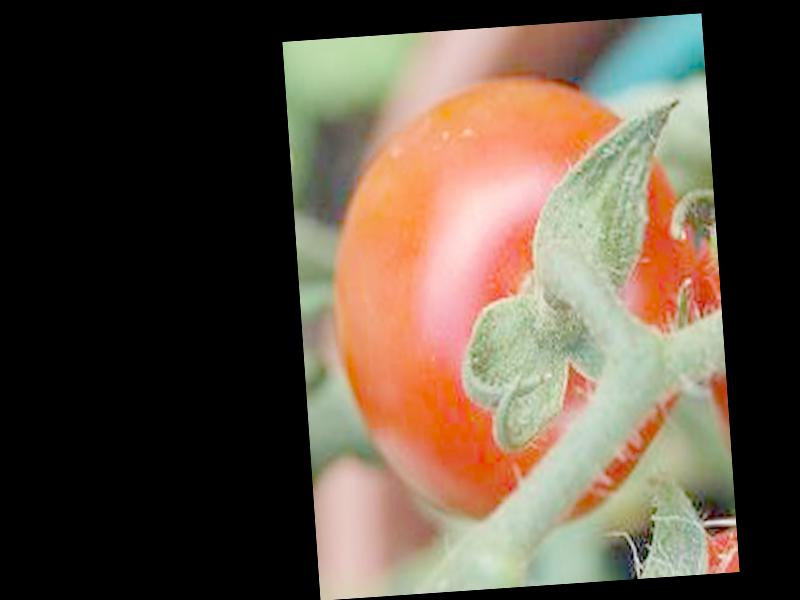Tomato: (320, 66, 725, 542)
